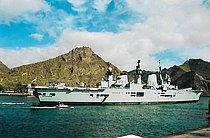MIL_Ship: (29, 60, 204, 104)
